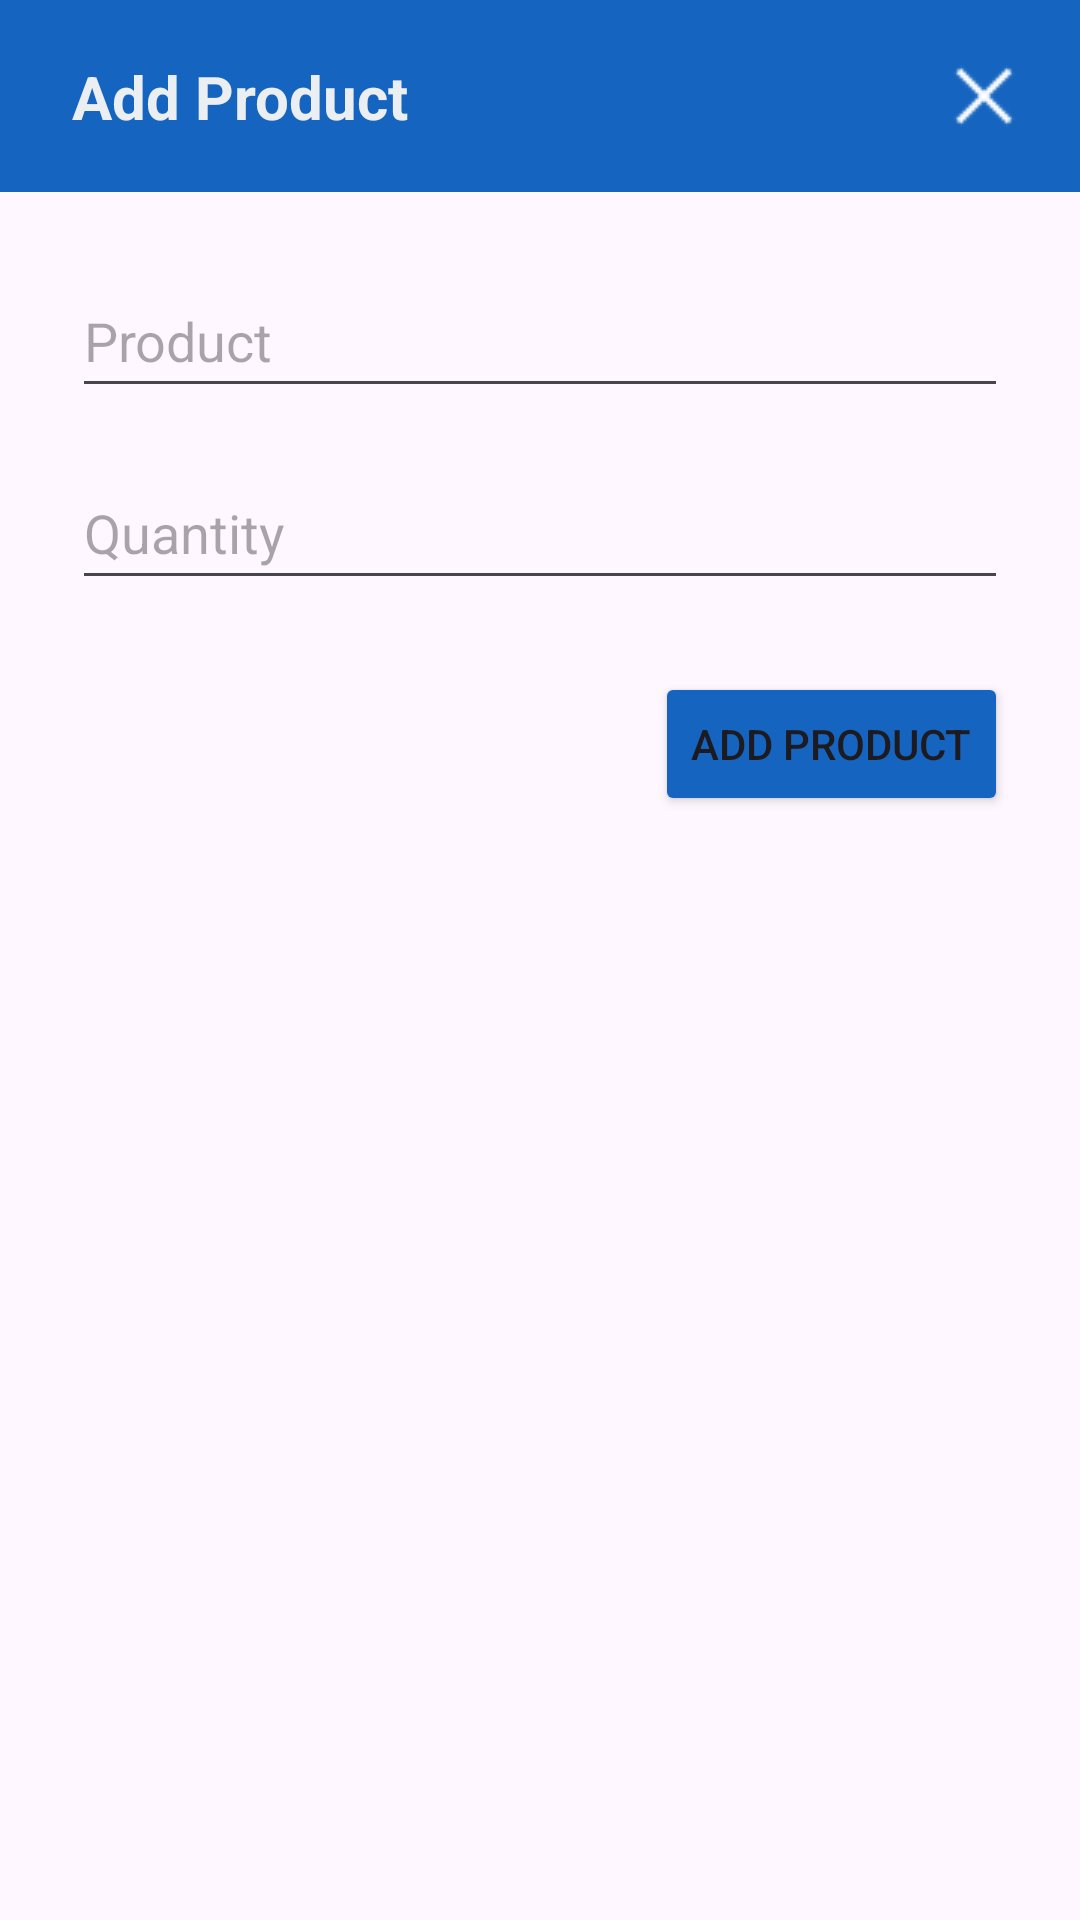

Icon click points for this 1080 x 1920 phone screenshot, format point (x, y):
Close: point (984, 96)
